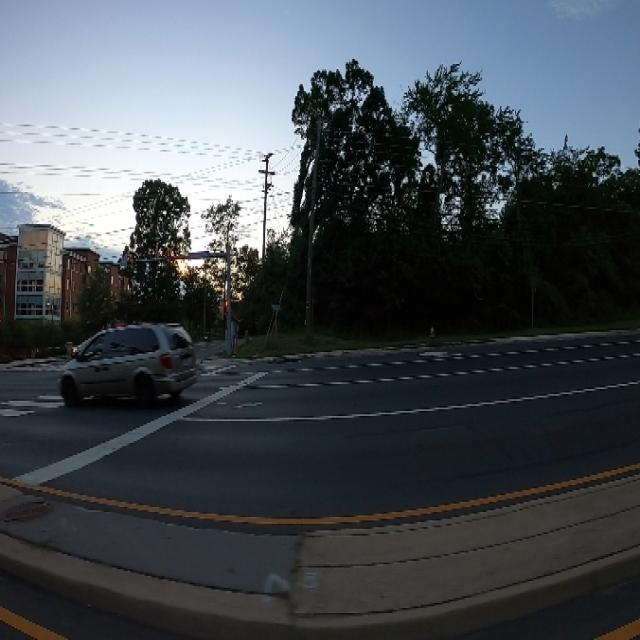Cars: (60, 329, 197, 412)
